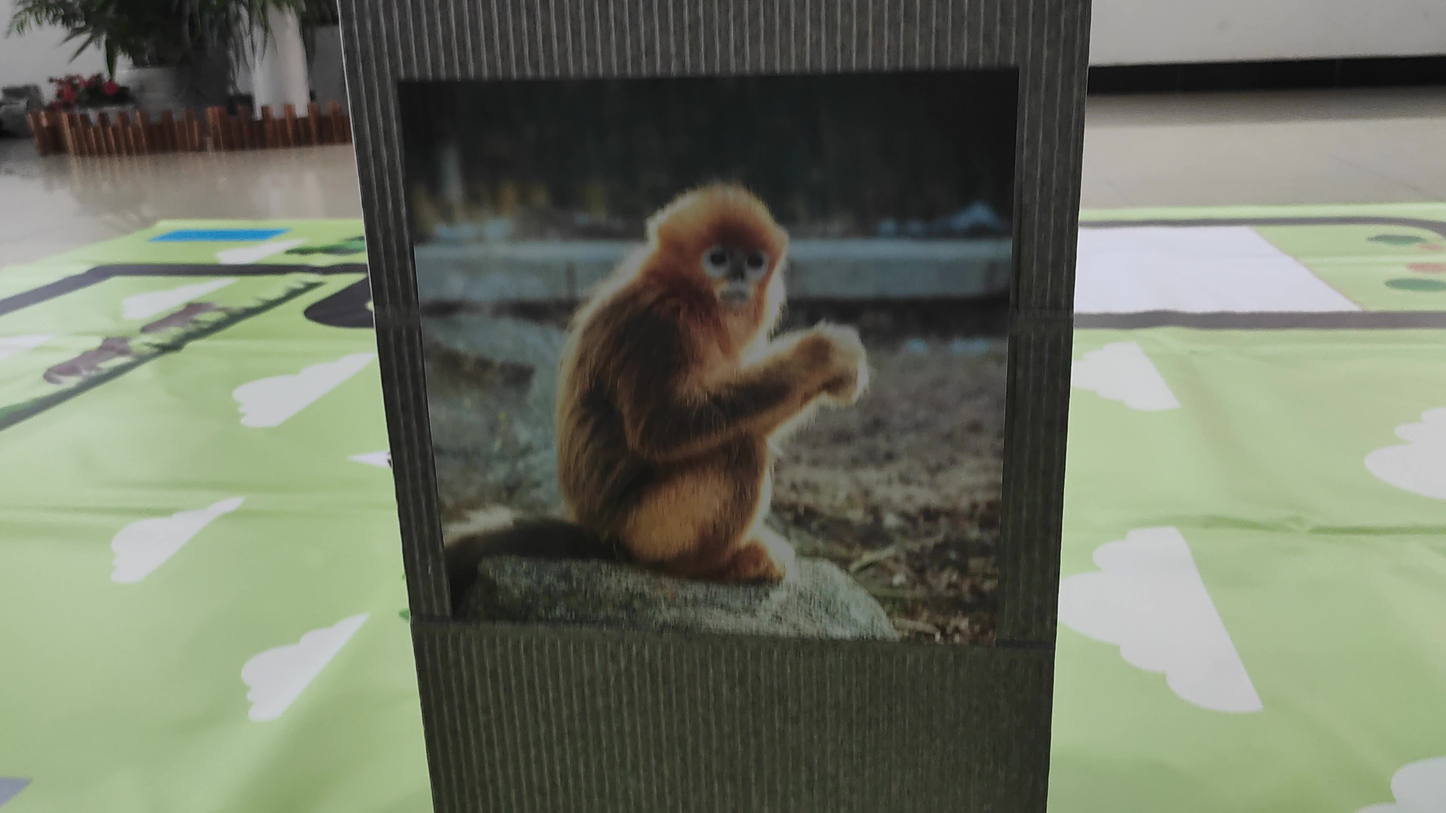monkey: (494, 123, 939, 581)
